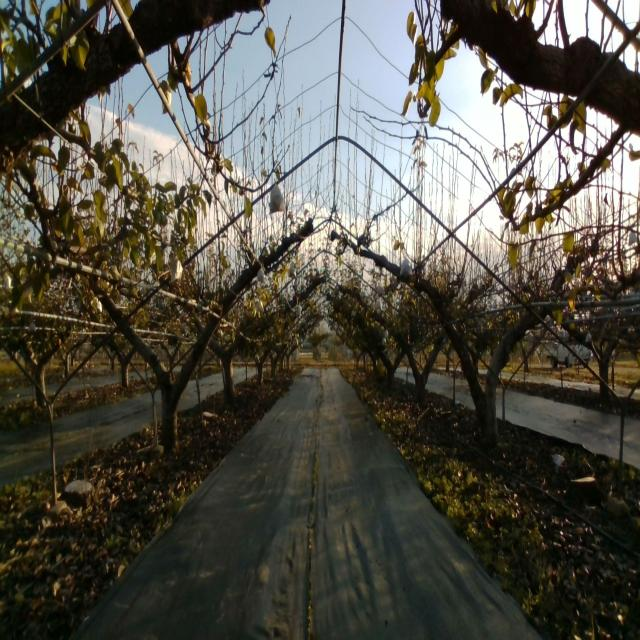pearbags: (269, 178, 287, 214), (170, 255, 183, 283), (399, 257, 412, 278)
